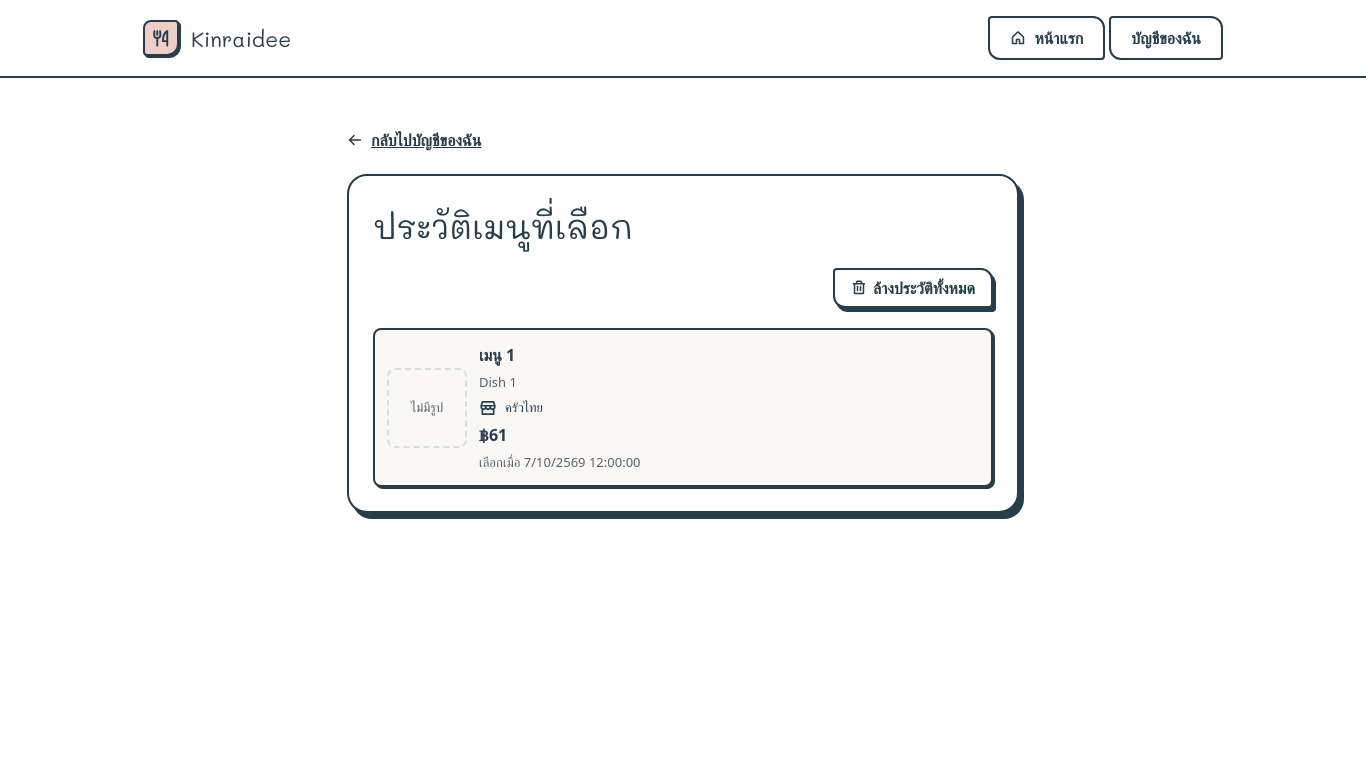
Test: HistoryPage › keeps the history when clearing fails
The image size is (1366, 768).
Expected: the list named "รายการประวัติเมนูที่เลือก" is shown, [373, 328, 993, 487]
Click the button "ล้างประวัติทั้งหมด" at [913, 288], box [833, 268, 993, 308]
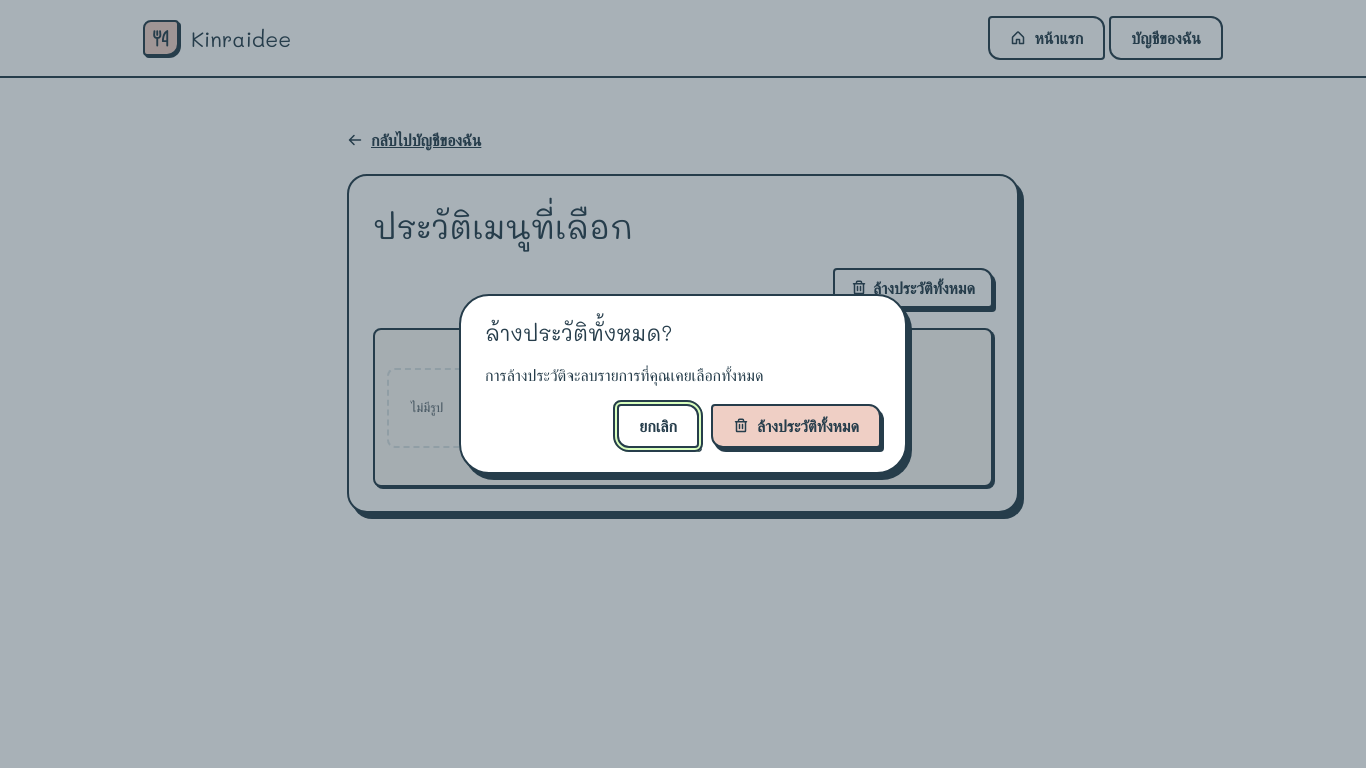
Click the button "ล้างประวัติทั้งหมด" at [796, 426], box [711, 404, 881, 448]
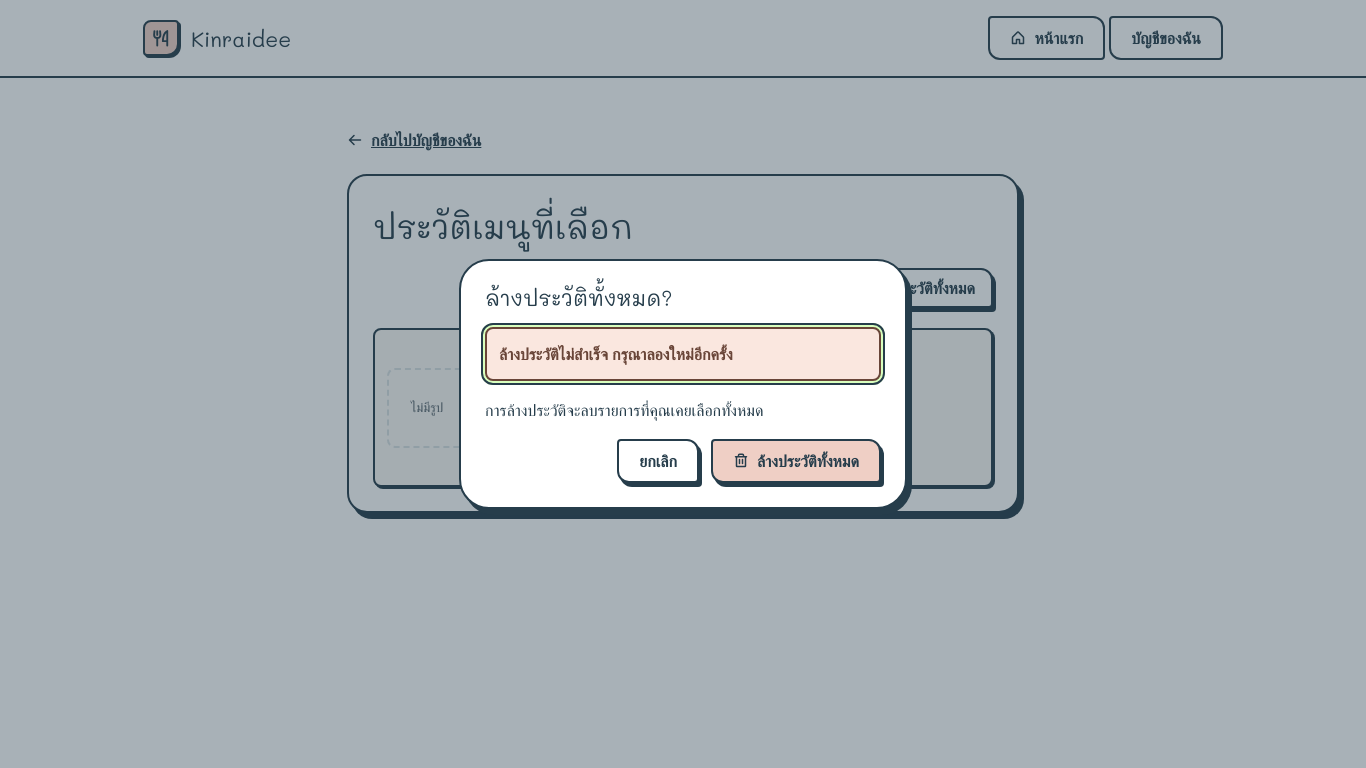
Expected: the message reads "ล้างประวัติไม่สำเร็จ กรุณาลองใหม่อีกครั้ง", [499, 343, 733, 365]
